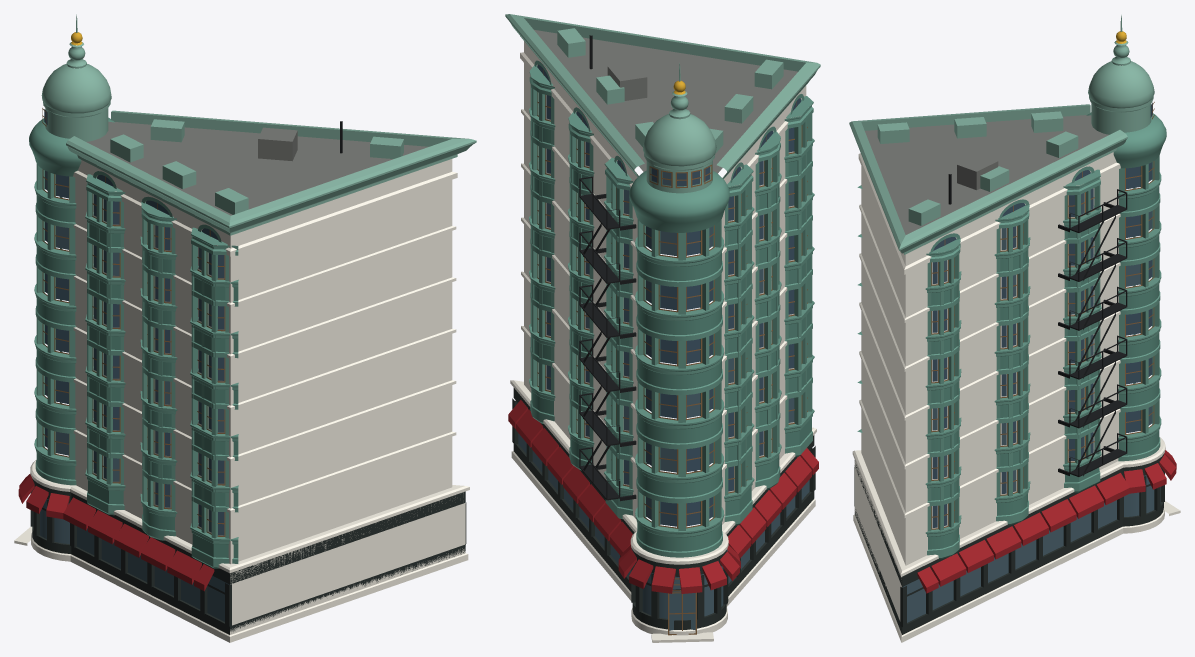
The model's file is columbus-tower-near.glb.
3 renders of one model, left to right at view 1: azimuth 30°, elevation 25°; view 2: azimuth 150°, elevation 25°; view 3: azimuth 270°, elevation 25°, orthographic. The views are drawn at different scales.
Visible parts, largest first — view 1: columbus-tower-0-tile, columbus-tower-0-copper, columbus-tower-0-verdigris, columbus-tower-0-roof, columbus-tower-0-patina, columbus-tower-0-base, columbus-tower-0-glass, columbus-tower-0-glow, columbus-tower-0-awning, columbus-tower-0-frame; view 2: columbus-tower-0-copper, columbus-tower-0-tile, columbus-tower-0-verdigris, columbus-tower-0-patina, columbus-tower-0-roof, columbus-tower-0-awning, columbus-tower-0-glass, columbus-tower-0-base, columbus-tower-0-iron, columbus-tower-0-glow, columbus-tower-0-frame; view 3: columbus-tower-0-tile, columbus-tower-0-copper, columbus-tower-0-verdigris, columbus-tower-0-roof, columbus-tower-0-patina, columbus-tower-0-base, columbus-tower-0-awning, columbus-tower-0-iron, columbus-tower-0-glow, columbus-tower-0-glass, columbus-tower-0-frame.
Boxes of the visible parts, x1=… form: columbus-tower-0-tile: x1=14, y1=159, x2=469, y2=642; columbus-tower-0-copper: x1=29, y1=117, x2=238, y2=568; columbus-tower-0-verdigris: x1=41, y1=14, x2=476, y2=235; columbus-tower-0-roof: x1=86, y1=121, x2=428, y2=215; columbus-tower-0-patina: x1=36, y1=195, x2=238, y2=558; columbus-tower-0-base: x1=30, y1=479, x2=466, y2=634; columbus-tower-0-glass: x1=44, y1=109, x2=224, y2=535; columbus-tower-0-glow: x1=40, y1=170, x2=229, y2=621; columbus-tower-0-awning: x1=18, y1=474, x2=214, y2=591; columbus-tower-0-frame: x1=42, y1=108, x2=225, y2=536; columbus-tower-0-copper: x1=529, y1=60, x2=814, y2=557; columbus-tower-0-tile: x1=510, y1=41, x2=816, y2=642; columbus-tower-0-verdigris: x1=505, y1=14, x2=820, y2=193; columbus-tower-0-patina: x1=531, y1=120, x2=811, y2=551; columbus-tower-0-roof: x1=534, y1=30, x2=797, y2=179; columbus-tower-0-awning: x1=508, y1=400, x2=818, y2=593; columbus-tower-0-glass: x1=537, y1=64, x2=801, y2=526; columbus-tower-0-base: x1=512, y1=388, x2=815, y2=629; columbus-tower-0-iron: x1=579, y1=35, x2=636, y2=501; columbus-tower-0-glow: x1=518, y1=172, x2=809, y2=630; columbus-tower-0-frame: x1=537, y1=69, x2=807, y2=635; columbus-tower-0-tile: x1=852, y1=152, x2=1180, y2=642; columbus-tower-0-copper: x1=857, y1=112, x2=1166, y2=559; columbus-tower-0-verdigris: x1=849, y1=15, x2=1154, y2=254; columbus-tower-0-roof: x1=865, y1=115, x2=1108, y2=234; columbus-tower-0-patina: x1=928, y1=186, x2=1159, y2=549; columbus-tower-0-base: x1=854, y1=454, x2=1164, y2=634; columbus-tower-0-awning: x1=917, y1=450, x2=1176, y2=593; columbus-tower-0-iron: x1=948, y1=174, x2=1127, y2=476; columbus-tower-0-glow: x1=902, y1=193, x2=1160, y2=622; columbus-tower-0-glass: x1=932, y1=102, x2=1152, y2=527; columbus-tower-0-frame: x1=931, y1=102, x2=1154, y2=529.
Bounding box in the file's own units: 19.67 × 29.8 × 17.83.
